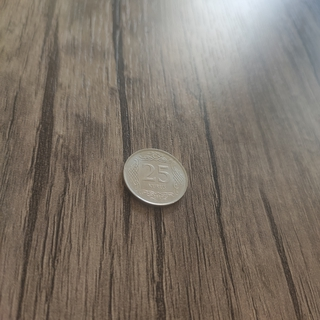25KURUS: (121, 146, 190, 207)
